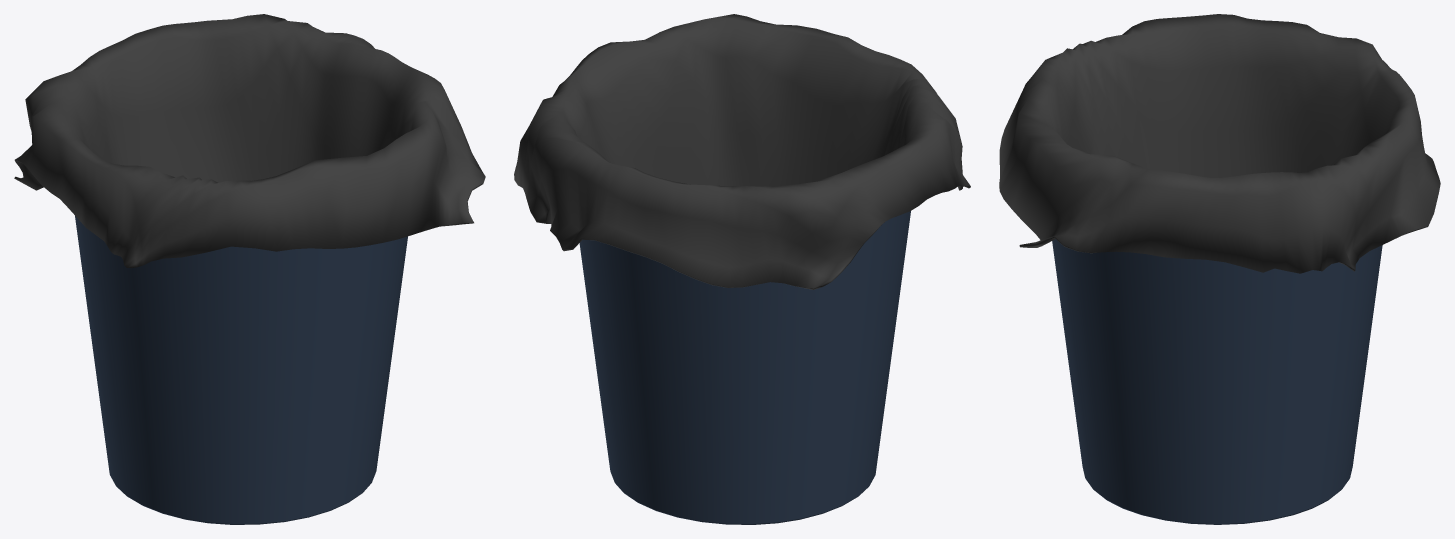
File: Tarro de basura.fbx
The picture shows the model from 3 angles, left to right: view 1: azimuth 30°, elevation 25°; view 2: azimuth 150°, elevation 25°; view 3: azimuth 270°, elevation 25°; orthographic projection.
Visible parts, largest first — view 1: Tarro de basura; view 2: Tarro de basura; view 3: Tarro de basura.
Boxes of the visible parts, bbox=[...] form: Tarro de basura: bbox=[14, 14, 485, 524]; Tarro de basura: bbox=[514, 14, 970, 524]; Tarro de basura: bbox=[999, 14, 1440, 524].
Size of the model in its own units: 38.99 by 37.7 by 40.08.
